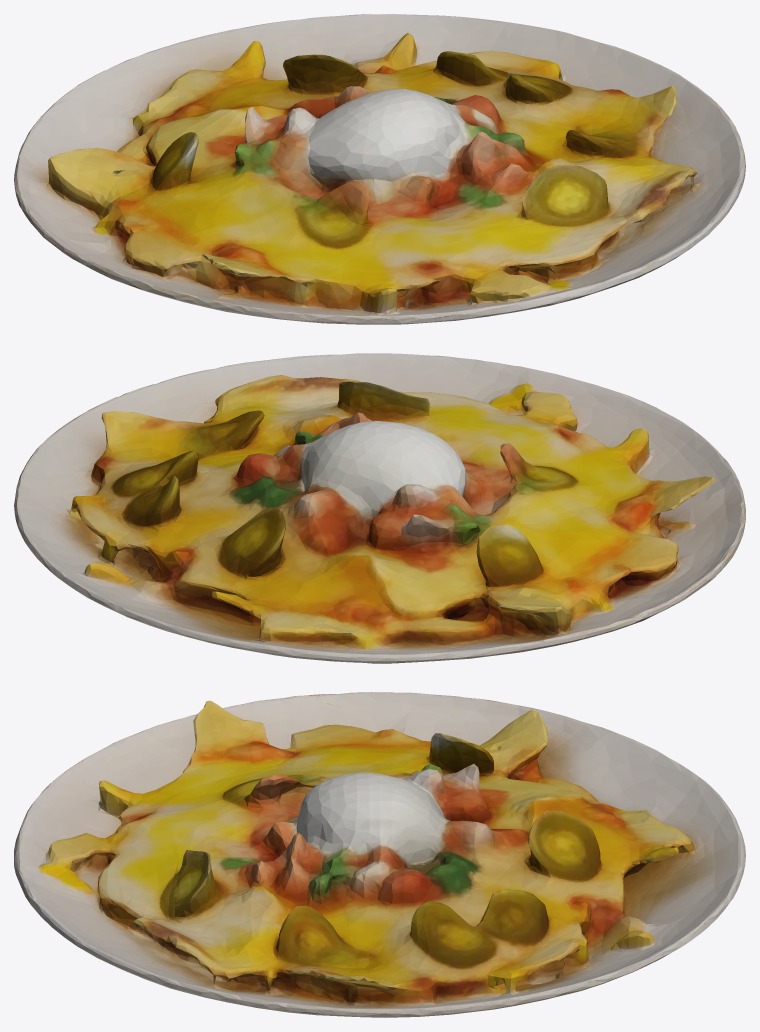
Rendered from p_nachos.glb.
3 renders of one model, top to bottom at view 1: azimuth 30°, elevation 25°; view 2: azimuth 150°, elevation 25°; view 3: azimuth 270°, elevation 25°, orthographic. The views are drawn at different scales.
Visible parts, largest first — view 1: geometry_0; view 2: geometry_0; view 3: geometry_0.
Part boxes in pixels (<box>): geometry_0: <box>14,14,745,324</box>; geometry_0: <box>14,353,745,663</box>; geometry_0: <box>14,692,745,1017</box>.
Size of the model in its own units: 0.9998 by 0.2341 by 0.9661.
1 material, 1 textured.
